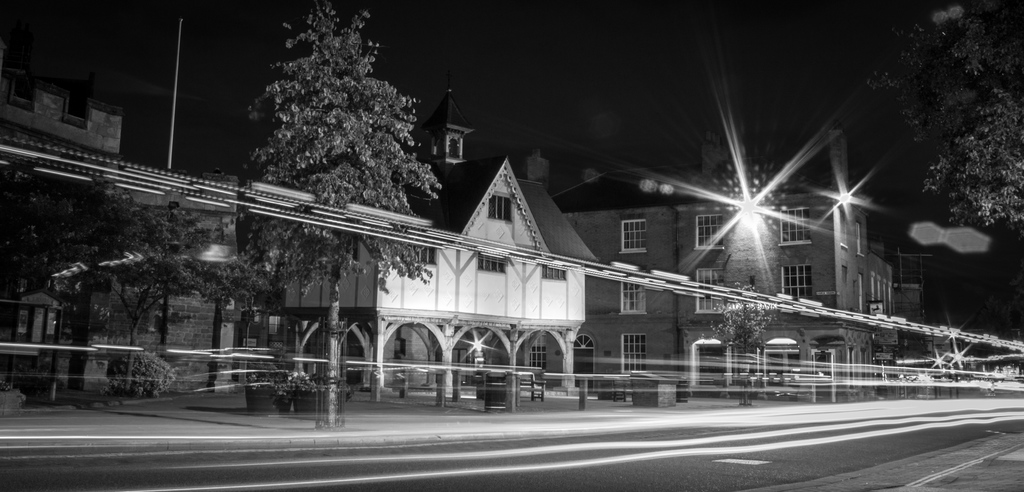Tree: (239, 0, 446, 406), (5, 164, 222, 407), (878, 1, 1014, 248), (705, 280, 783, 408)
